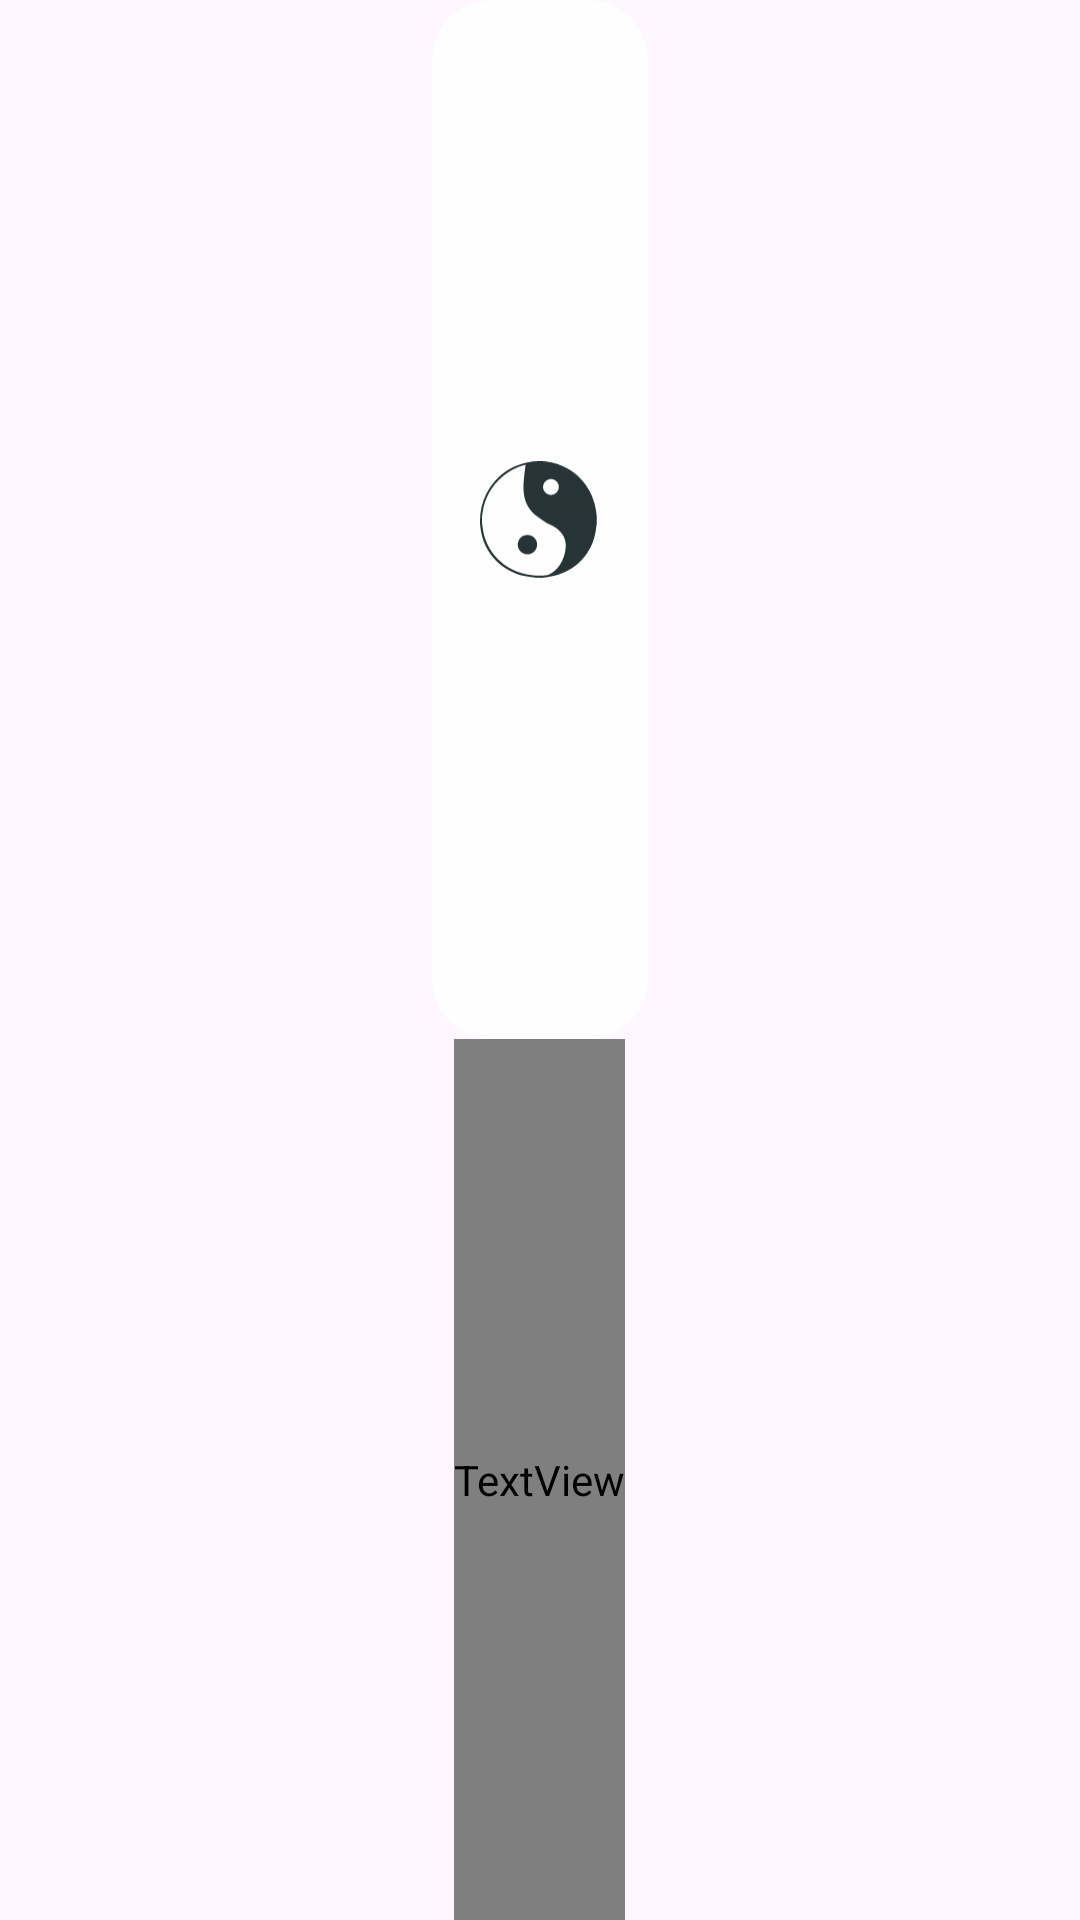

Locate icon controls on the screen. Image size 1080w x 1920h, boxes as (x1, y1, x2, y2).
calm: (480, 461, 597, 578)
